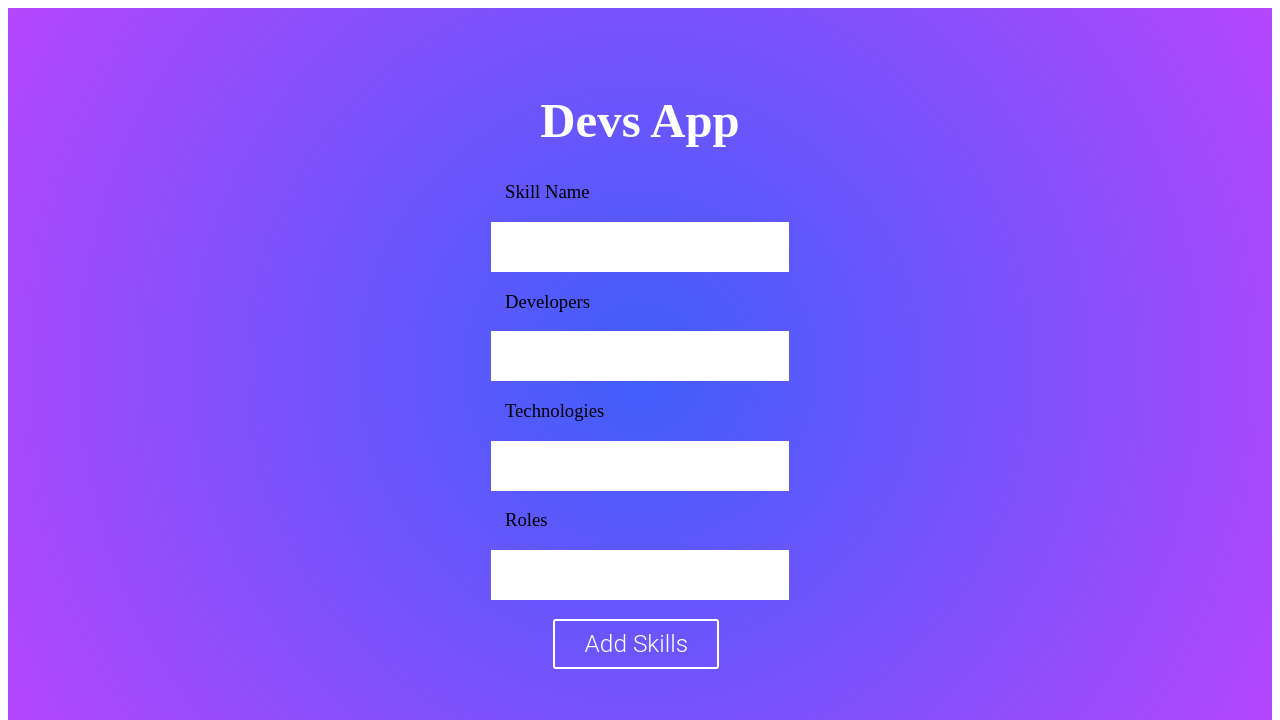
Test: App Developers Skills › should add skill as the button is clicked
Step 1. Type "Any Skill Name" into the field with id "input-skill" → (641, 247), box [491, 222, 790, 272]
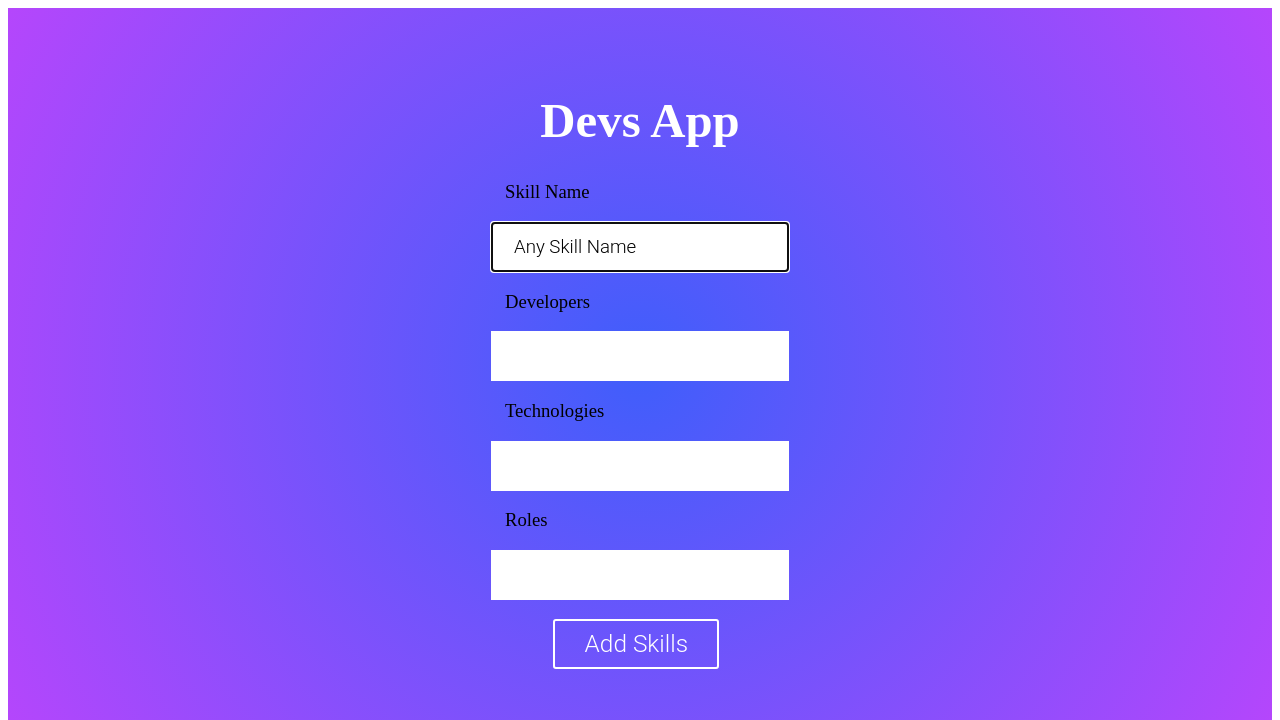
Step 2. Type "Any Developers" into the field with id "input-developer" → (641, 356), box [491, 331, 790, 381]
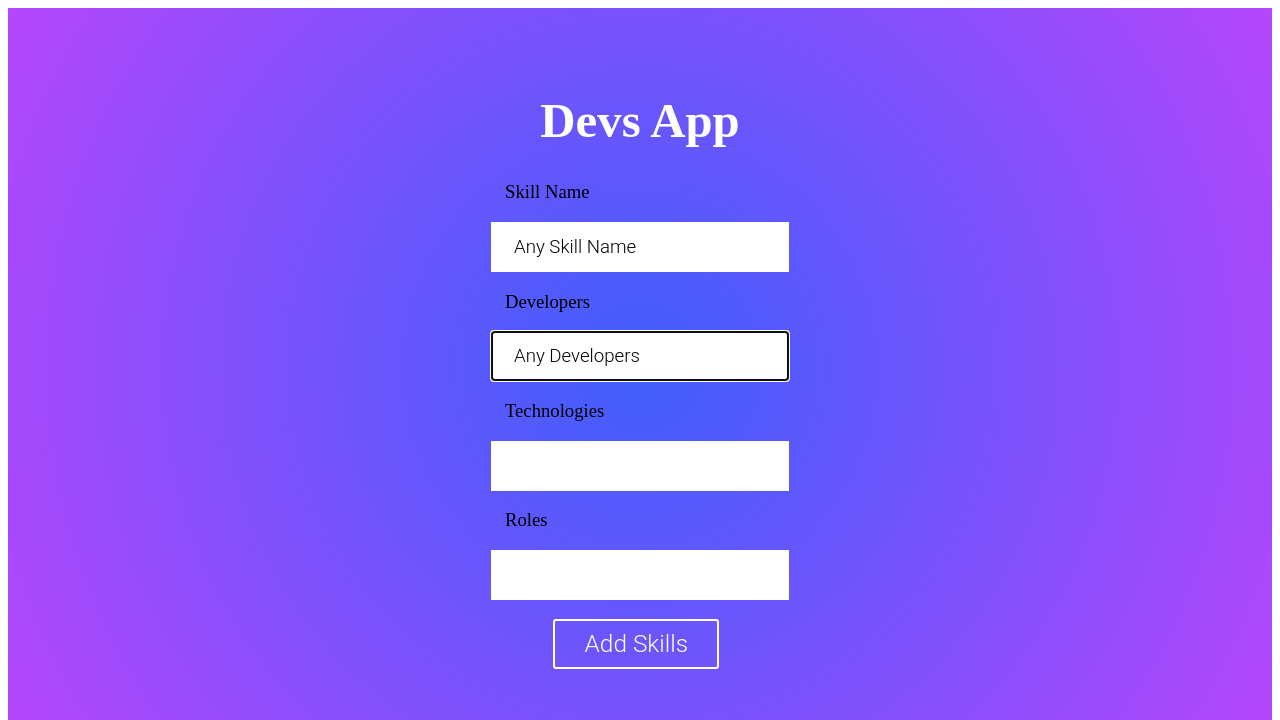
Step 3. Type "Any Technologies" into the field with id "input-tec" → (641, 466), box [491, 441, 790, 491]
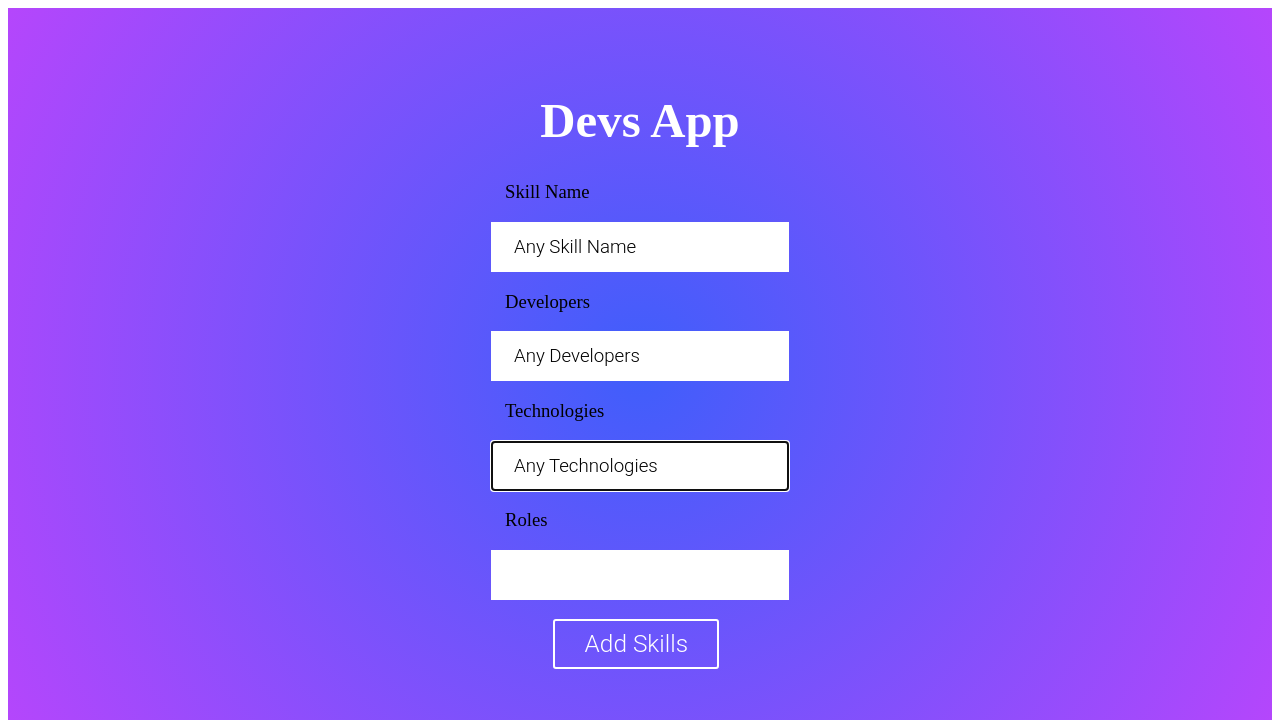
Step 4. Type "Any Roles" into the field with id "input-roles" → (641, 575), box [491, 550, 790, 600]
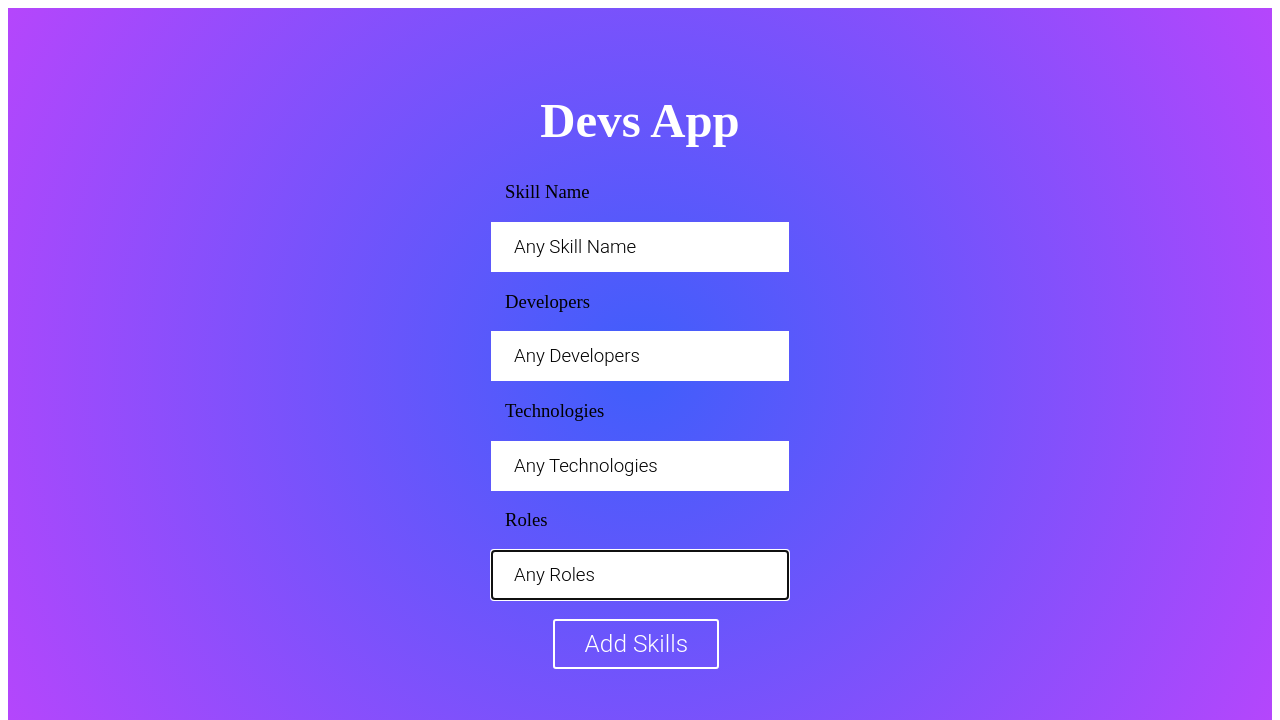
Step 5. Click the button with id "add-skill-button" → (636, 644), box [553, 619, 719, 669]
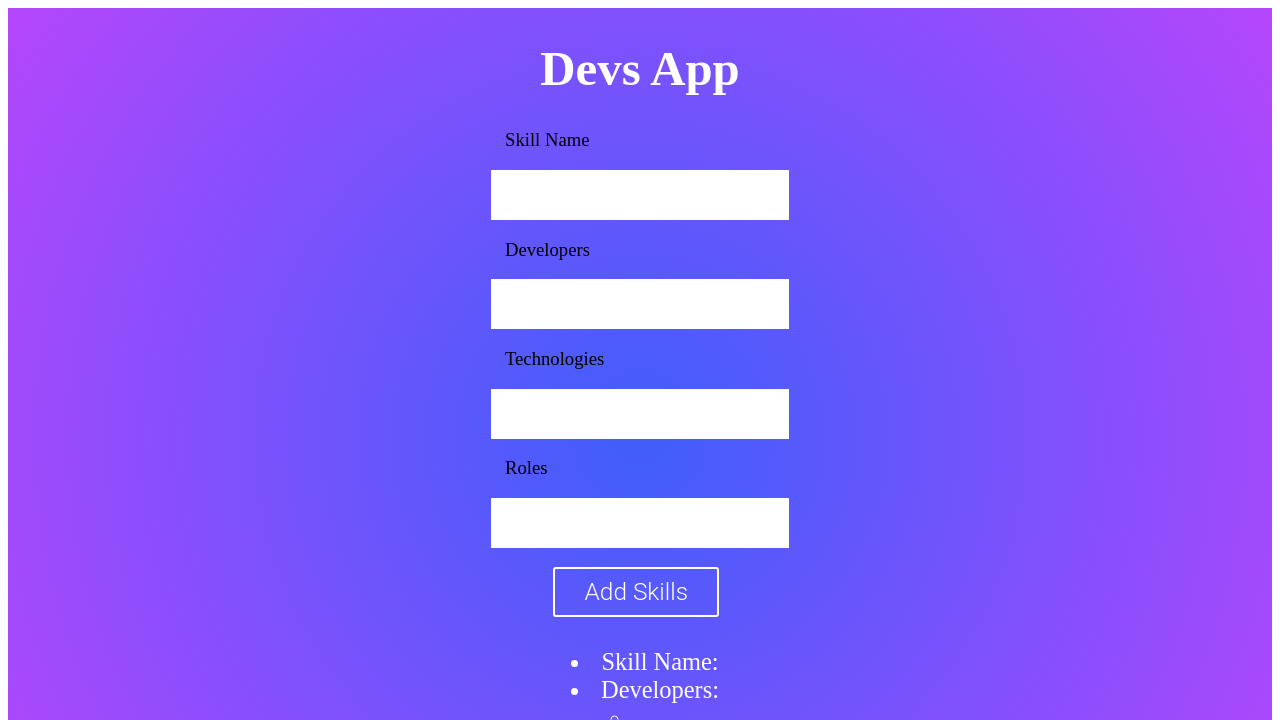
Expected: the list item "Skill Name:" is shown, [592, 648, 728, 676]
Expected: the list is shown, [552, 648, 728, 719]
